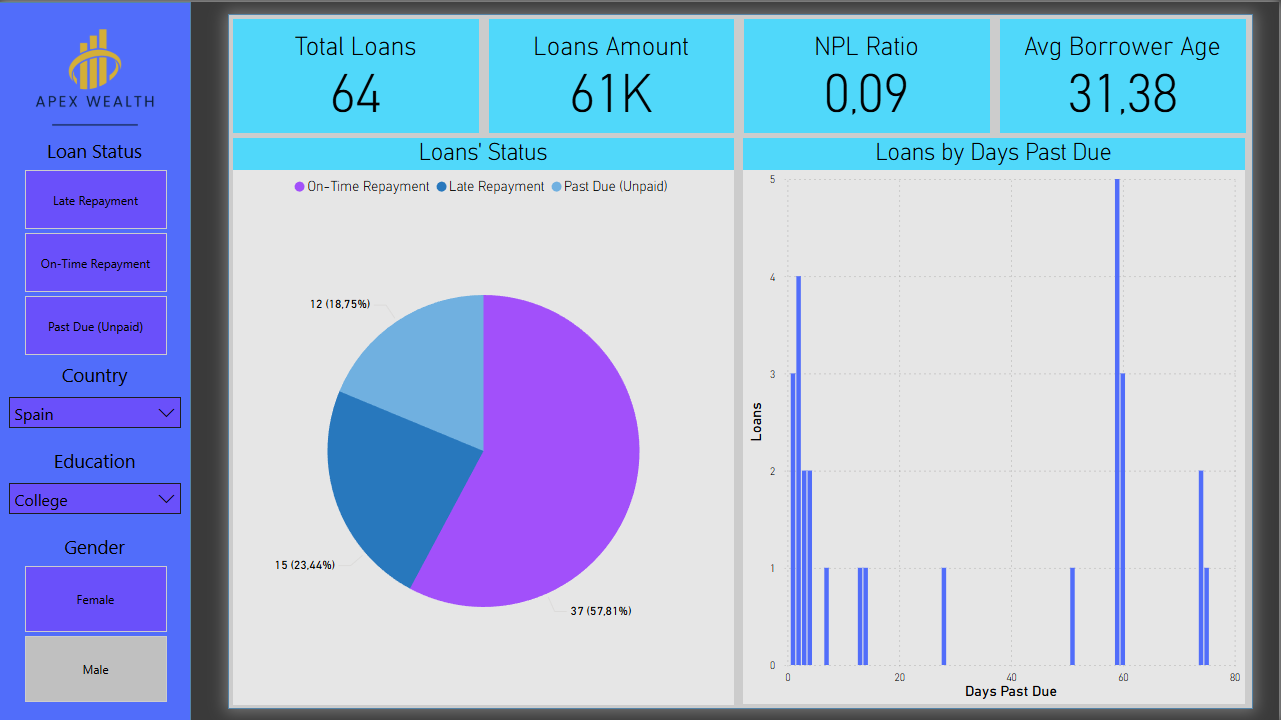

This screenshot's page, from the dashboard's own definition file:
{"tool":"powerbi","page":{"name":"Pagina 1","canvas":[1280,720],"ordinal":0},"visuals":[{"type":"shape","box":[229.2,12.2,1024.4,694.8],"z":0},{"type":"shape","box":[0,0,192,720.1],"z":1000},{"type":"cardVisual","fields":{"Data":["public loan_analysis_view.Total Loans"]},"box":[229.2,12.2,255.6,123.7],"z":2000},{"type":"cardVisual","fields":{"Data":["public loan_analysis_view.Total Loans Amount"]},"box":[484.8,12.2,255.6,123.7],"z":3000},{"type":"cardVisual","fields":{"Data":["public loan_analysis_view.Average Borrower Age"]},"box":[996,12.2,255.6,123.7],"z":4000},{"type":"cardVisual","fields":{"Data":["public loan_analysis_view.Non Performing Loans Ratio"]},"box":[740.4,12.2,255.6,123.7],"z":5000},{"type":"slicer","title":"Loan Status","fields":{"Values":["public loan_analysis_view.Loan Status Label"]},"box":[0,135.9,191.7,224.2],"z":6000},{"type":"slicer","title":"Country","fields":{"Values":["public loan_analysis_view.country"]},"box":[0,360.1,191.7,86.2],"z":7000},{"type":"slicer","title":"Education","fields":{"Values":["public loan_analysis_view.education"]},"box":[0,446.3,191.7,86.2],"z":8000},{"type":"slicer","title":"Gender","fields":{"Values":["public loan_analysis_view.gender"]},"box":[0,532.5,191.7,174.5],"z":9000},{"type":"pieChart","title":"Loans'' Status","fields":{"Category":["public loan_analysis_view.Loan Status Label"],"Y":["CountNonNull(public loan_analysis_view.loan_id)"]},"box":[233.5,136.2,501.6,566.5],"z":10000},{"type":"clusteredColumnChart","title":"Loans by Days Past Due","fields":{"Y":["CountNonNull(public loan_analysis_view.loan_id)"],"Category":["public loan_analysis_view.past_due_days"]},"box":[744.3,136.1,502.1,566],"z":11000},{"type":"image","box":[0,0,192,136],"z":11001}]}

Visuals, with their boxes in screenshot pixels (x1, y1, x2, y2), scaled from the page's 1280x720 canvas onto the 1281x720 screenshot:
shape: (left=229, top=12, right=1255, bottom=707)
shape: (left=0, top=0, right=192, bottom=719)
cardVisual - public loan_analysis_view.Total Loans: (left=229, top=12, right=485, bottom=136)
cardVisual - public loan_analysis_view.Total Loans Amount: (left=485, top=12, right=741, bottom=136)
cardVisual - public loan_analysis_view.Average Borrower Age: (left=997, top=12, right=1253, bottom=136)
cardVisual - public loan_analysis_view.Non Performing Loans Ratio: (left=741, top=12, right=997, bottom=136)
"Loan Status" slicer: (left=0, top=136, right=192, bottom=360)
"Country" slicer: (left=0, top=360, right=192, bottom=446)
"Education" slicer: (left=0, top=446, right=192, bottom=532)
"Gender" slicer: (left=0, top=532, right=192, bottom=707)
"Loans'' Status" pieChart: (left=234, top=136, right=736, bottom=703)
"Loans by Days Past Due" clusteredColumnChart: (left=745, top=136, right=1247, bottom=702)
image: (left=0, top=0, right=192, bottom=136)
